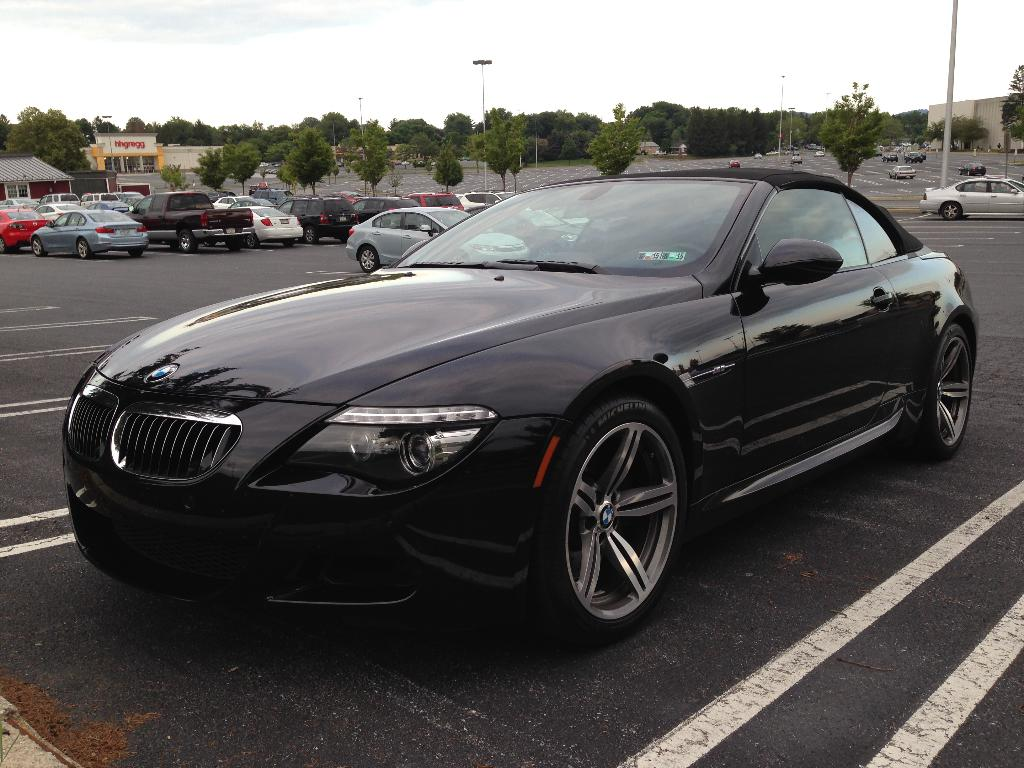mobil: (59, 169, 991, 625)
